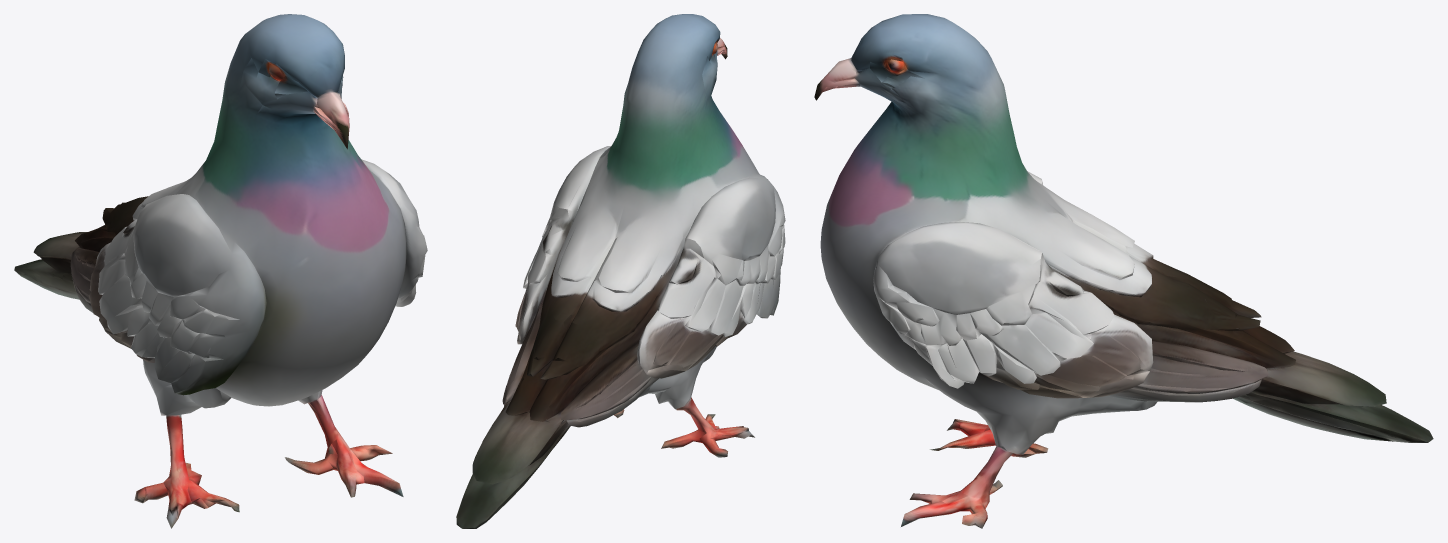
Rendered from pigeon.glb.
The picture shows the model from 3 angles, left to right: view 1: azimuth 30°, elevation 25°; view 2: azimuth 150°, elevation 25°; view 3: azimuth 270°, elevation 25°; orthographic projection. The views are drawn at different scales.
Parts seen in each view (by area): view 1: model; view 2: model; view 3: model.
Boxes of the visible parts, x1=… form: model: x1=14, y1=14, x2=427, y2=528; model: x1=456, y1=14, x2=785, y2=528; model: x1=814, y1=14, x2=1433, y2=528.
Size of the model in its own units: 0.1367 by 0.25 by 0.3037.
1 material, 1 textured.
